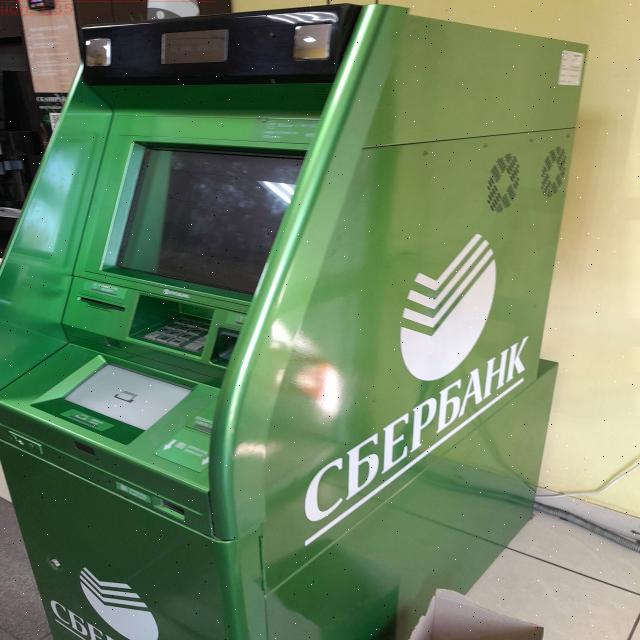bank: (0, 7, 586, 640)
